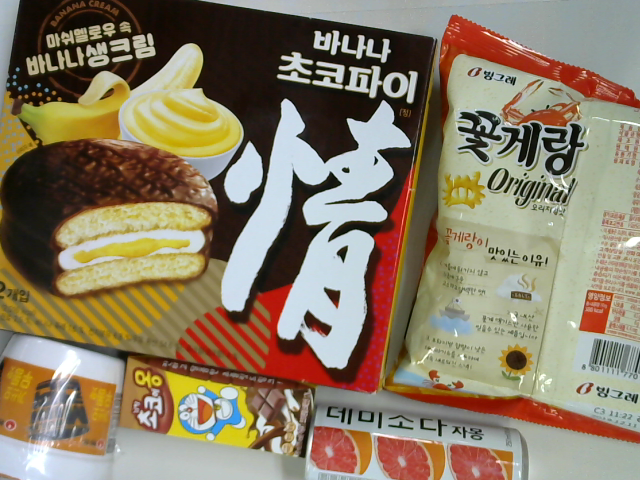Choco_E_Mong: (120, 350, 318, 459)
Choco_Pie_Banana: (1, 1, 439, 395)
Crabrang: (379, 13, 640, 447)
Demisoda_Grapefruit_Can_250ml: (301, 406, 529, 480)
Udongmini: (1, 333, 124, 480)
